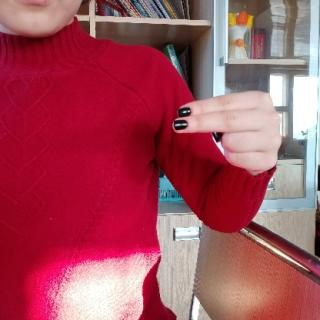AYN: (170, 87, 286, 178)
